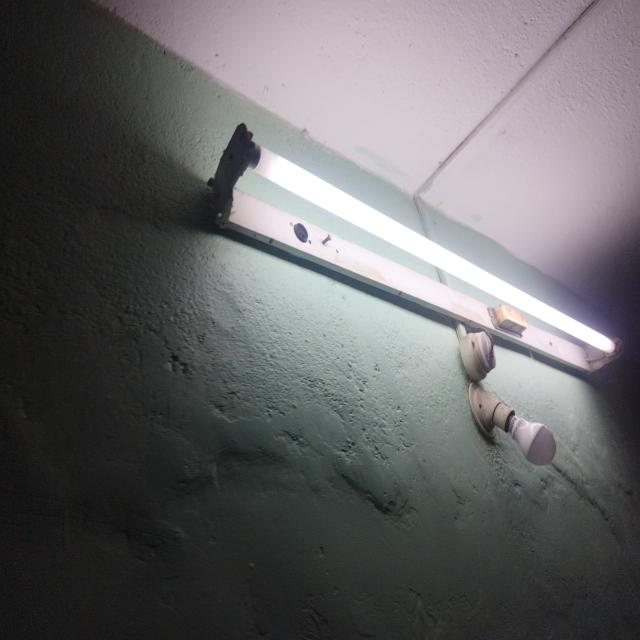tubelight_on: (193, 114, 621, 386)
